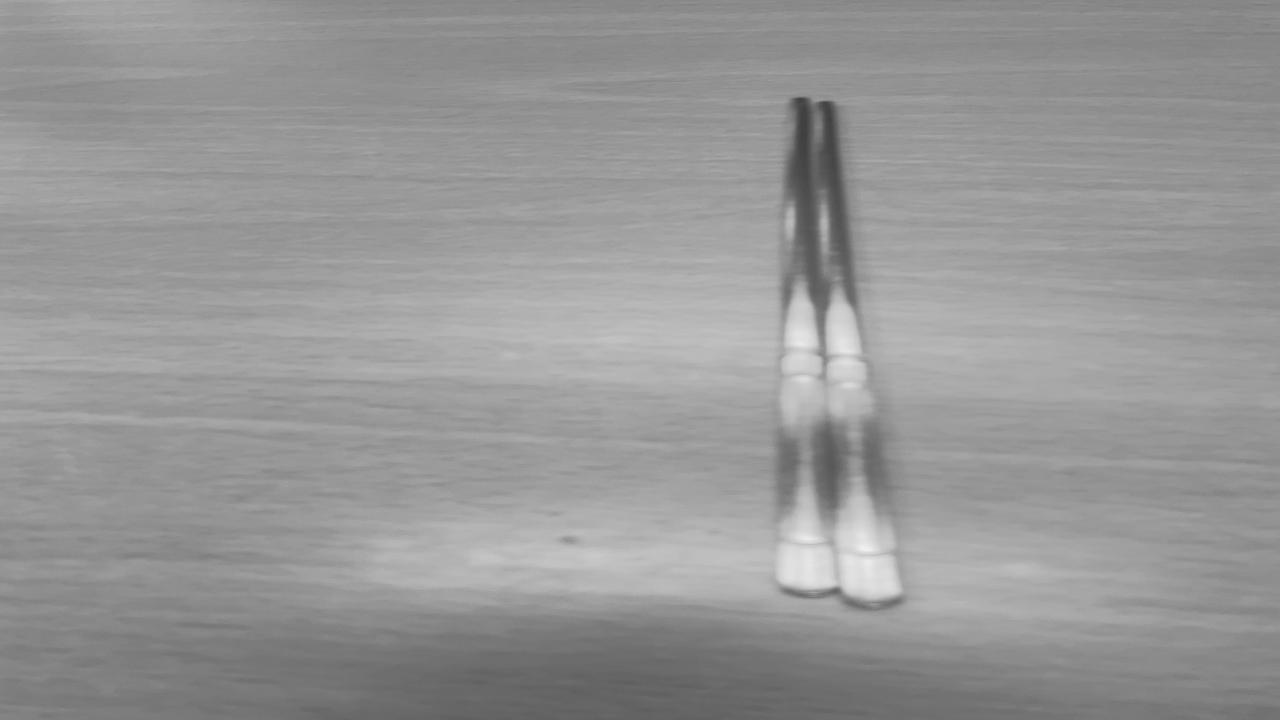chopstick: (774, 98, 904, 602)
